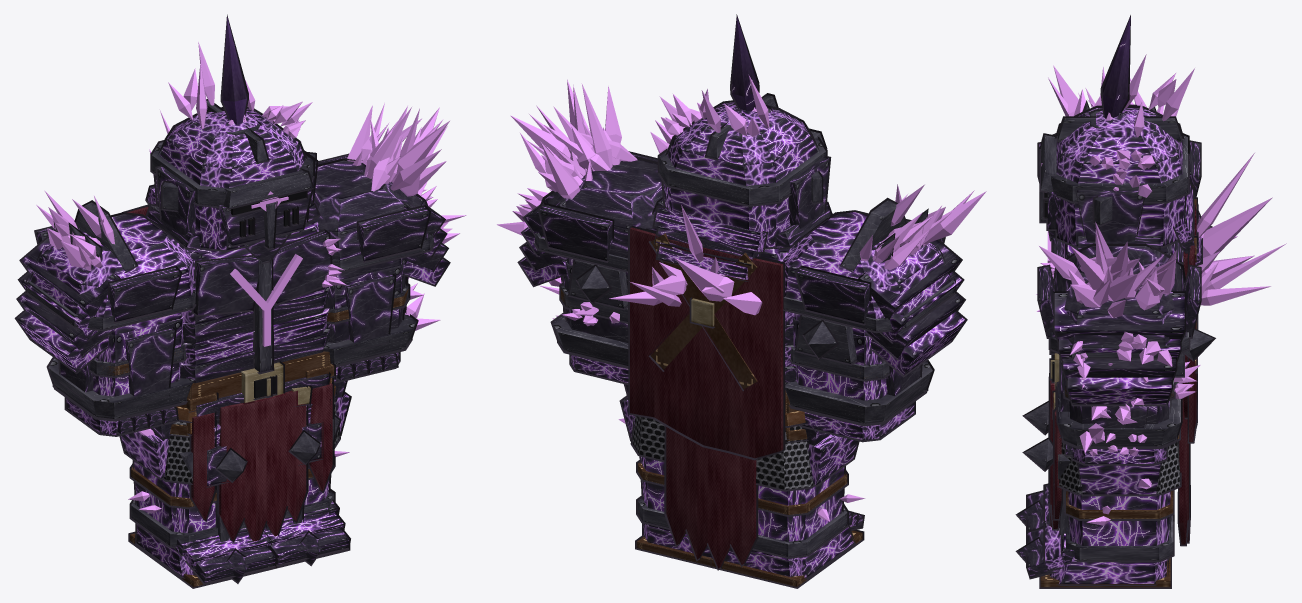
File: KnightBlightedAxe.fbx
The picture shows the model from 3 angles, left to right: view 1: azimuth 30°, elevation 25°; view 2: azimuth 150°, elevation 25°; view 3: azimuth 270°, elevation 25°; orthographic projection. The views are drawn at different scales.
Parts seen in each view (by area): view 1: LowerTorso_Armor, Head_Armor, RightUpperArm_Armor, UpperTorso_Armor, LeftUpperArm_Armor, LeftUpperArm_Glow, RightFoot_Armor, RightLowerArm_Armor, LeftLowerArm_Armor, RightLowerLeg_Armor, RightHand_Armor, LeftFoot_Armor (+14 smaller); view 2: UpperTorso_Armor, Head_Armor, RightUpperArm_Armor, LowerTorso_Armor, LeftUpperArm_Armor, LeftUpperArm_Glow, RightLowerArm_Armor, RightHand_Armor, RightFoot_Armor, RightLowerLeg_Armor, UpperTorso_Glow, RightUpperArm_Glow (+15 smaller); view 3: Head_Armor, LeftUpperArm_Armor, LeftUpperArm_Glow, LeftFoot_Armor, LowerTorso_Armor, LeftLowerLeg_Armor, UpperTorso_Glow, LeftHand_Armor, Head_Glow, LeftLowerArm_Armor, Head_ArmorOutline, UpperTorso_Armor (+13 smaller).
Part boxes in pixels (x1,y1,x2,y2): LowerTorso_Armor: (121,351,349,541); Head_Armor: (147,17,316,261); RightUpperArm_Armor: (16,202,195,376); UpperTorso_Armor: (127,202,330,383); LeftUpperArm_Armor: (313,155,448,322); LeftUpperArm_Glow: (347,103,466,243); RightFoot_Armor: (130,500,275,586); RightLowerArm_Armor: (54,316,186,418); LeftLowerArm_Armor: (326,260,410,364); RightLowerLeg_Armor: (131,445,245,542); RightHand_Armor: (48,358,193,434); LeftFoot_Armor: (262,491,349,566); UpperTorso_Armor: (630,199,830,458); Head_Armor: (654,16,829,279); RightUpperArm_Armor: (783,200,965,379); LowerTorso_Armor: (621,384,857,568); LeftUpperArm_Armor: (519,153,662,321); LeftUpperArm_Glow: (497,79,637,235); RightLowerArm_Armor: (789,315,926,422); RightHand_Armor: (785,361,932,440); RightFoot_Armor: (712,507,862,586); RightLowerLeg_Armor: (752,467,847,559); UpperTorso_Glow: (609,204,762,315); RightUpperArm_Glow: (859,184,986,270); Head_Armor: (1040,16,1201,264); LeftUpperArm_Armor: (1039,246,1200,404); LeftUpperArm_Glow: (1039,222,1177,379); LeftFoot_Armor: (1018,515,1173,587); LowerTorso_Armor: (1050,353,1188,544); LeftLowerLeg_Armor: (1024,439,1173,545); UpperTorso_Glow: (1036,153,1286,311); LeftHand_Armor: (1058,382,1180,463); Head_Glow: (1041,54,1194,197); LeftLowerArm_Armor: (1060,330,1213,445); Head_ArmorOutline: (1039,15,1202,265); UpperTorso_Armor: (1050,186,1196,441).
Size of the model in its own units: 574 by 687 by 314.
Materials: 5 (3 with a texture image).
